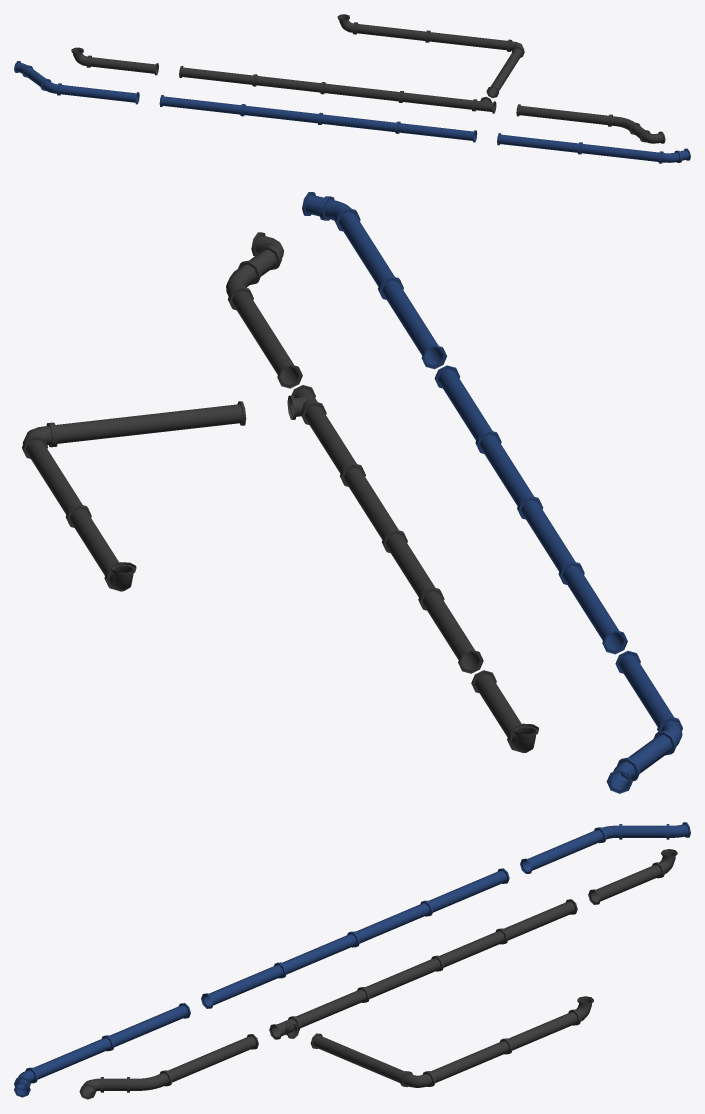
The model's file is SM_H_Building_Tide_Canteen_02A_ATLAS.fbx.
The picture shows the model from 3 angles, top to bottom: view 1: azimuth 30°, elevation 25°; view 2: azimuth 150°, elevation 25°; view 3: azimuth 270°, elevation 25°; orthographic projection. The views are drawn at different scales.
Parts seen in each view (by area): view 1: SM_H_Building_Tide_Canteen_02A_ATLAS; view 2: SM_H_Building_Tide_Canteen_02A_ATLAS; view 3: SM_H_Building_Tide_Canteen_02A_ATLAS.
Part boxes in pixels (<box>): SM_H_Building_Tide_Canteen_02A_ATLAS: <box>14,14,690,163</box>; SM_H_Building_Tide_Canteen_02A_ATLAS: <box>22,192,682,793</box>; SM_H_Building_Tide_Canteen_02A_ATLAS: <box>14,822,690,1099</box>.
Size of the model in its own units: 1907 by 2073 by 69.82.
